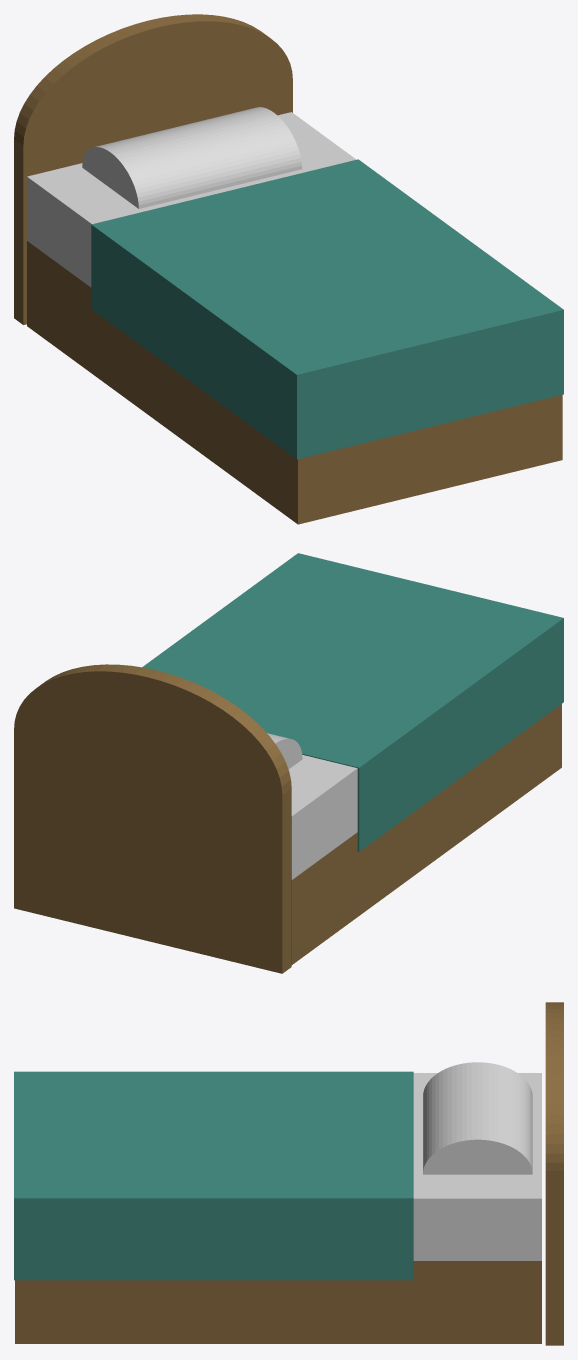
File: trees (1).glb
3 views of the same model, one above another, from view 1: azimuth 30°, elevation 25°; view 2: azimuth 150°, elevation 25°; view 3: azimuth 270°, elevation 25° (orthographic). The views are drawn at different scales.
Parts seen in each view (by area): view 1: Mesh_Mesh_head_geo.001_lambert2SG.001; view 2: Mesh_Mesh_head_geo.001_lambert2SG.001; view 3: Mesh_Mesh_head_geo.001_lambert2SG.001.
Boxes of the visible parts, x1,y1,x2,y2 form: Mesh_Mesh_head_geo.001_lambert2SG.001: [14, 14, 563, 524]; Mesh_Mesh_head_geo.001_lambert2SG.001: [14, 553, 563, 973]; Mesh_Mesh_head_geo.001_lambert2SG.001: [14, 1002, 563, 1345].
Bounding box in the file's own units: 0.033 × 0.031 × 0.06.
